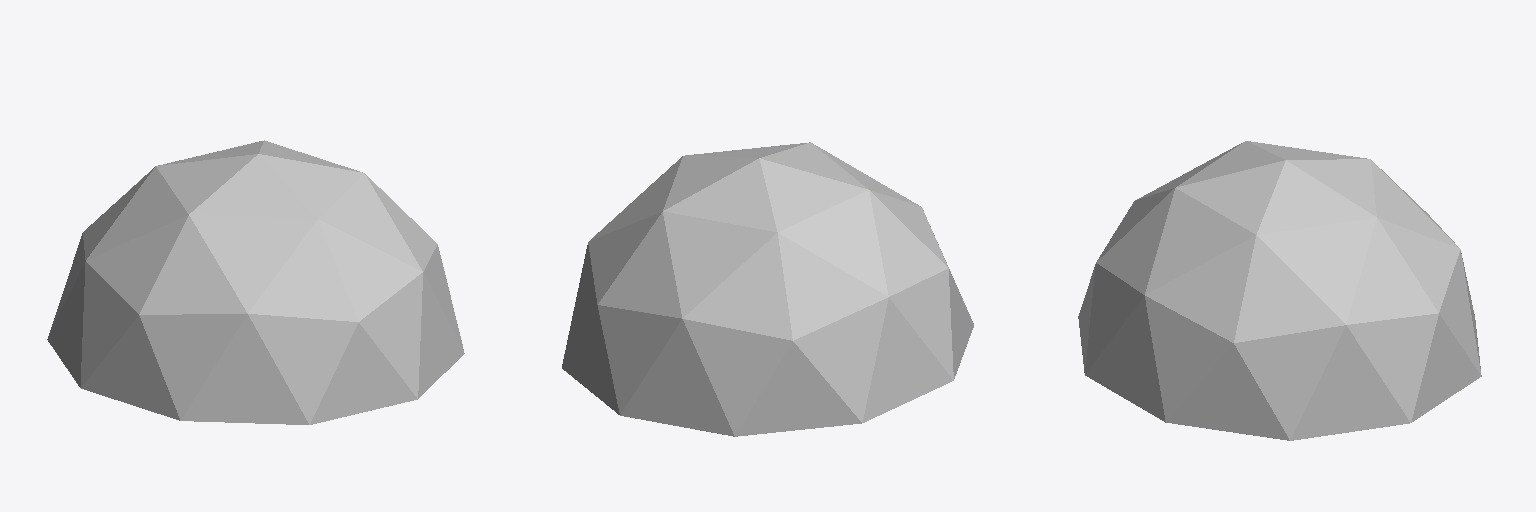
The model's file is dome1.obj.
3 renders of one model, left to right at view 1: azimuth 30°, elevation 25°; view 2: azimuth 150°, elevation 25°; view 3: azimuth 270°, elevation 25°, orthographic.
Parts seen in each view (by area): view 1: Dome1_Cube.010; view 2: Dome1_Cube.010; view 3: Dome1_Cube.010.
Boxes of the visible parts, box(x1,y1,x2,y2) form: Dome1_Cube.010: box(47, 140, 464, 424); Dome1_Cube.010: box(562, 142, 973, 436); Dome1_Cube.010: box(1078, 141, 1481, 440).
Bounding box in the file's own units: 0.0362 × 0.0189 × 0.035.